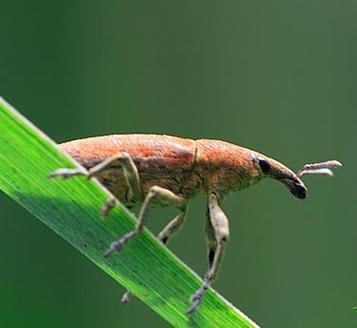Curculionidae: (46, 133, 343, 317)
